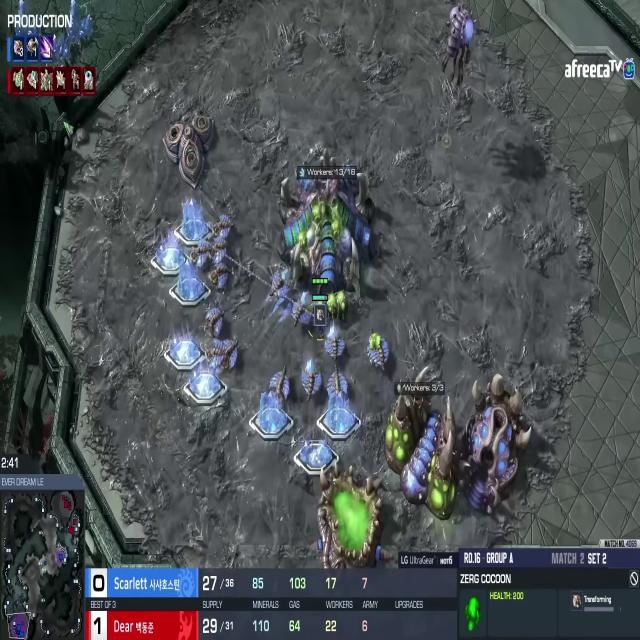drone: (364, 328, 393, 374), (298, 358, 323, 406), (326, 365, 352, 407), (208, 206, 236, 243), (268, 264, 294, 303), (269, 362, 293, 404), (290, 288, 312, 333), (323, 327, 348, 363), (208, 260, 235, 293), (219, 333, 240, 373), (205, 302, 228, 337), (194, 235, 213, 269), (205, 336, 224, 368), (206, 241, 233, 263)
overlord: (439, 1, 477, 92)
